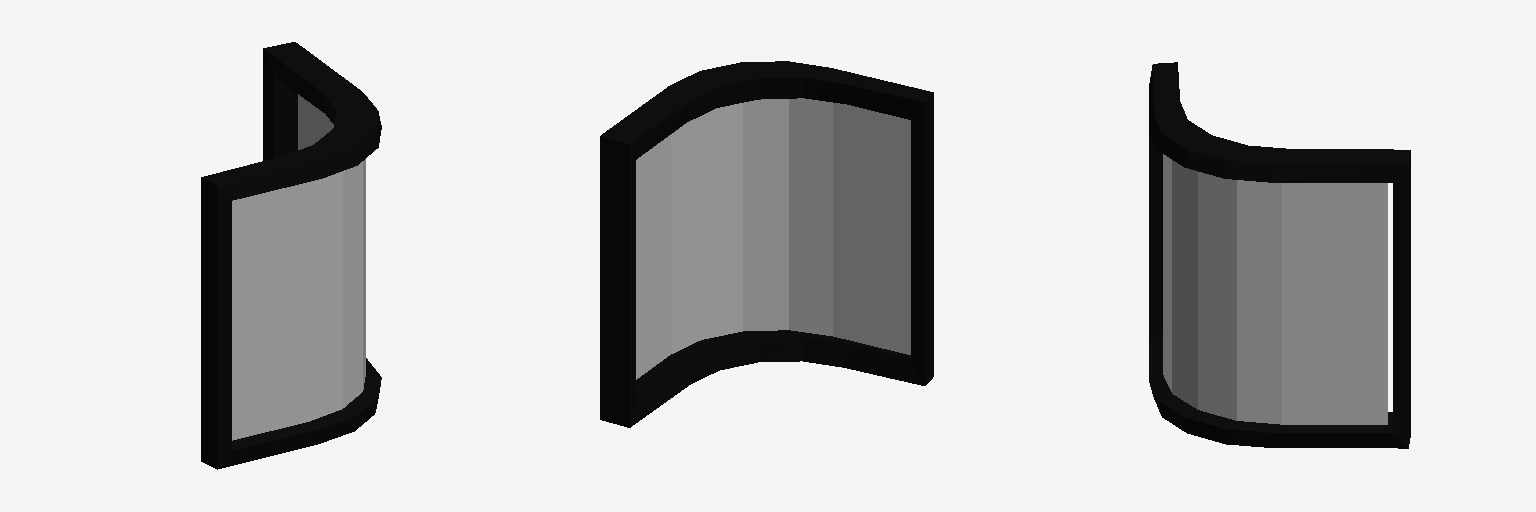
File: Sign_Corner_Small1.obj
The picture shows the model from 3 angles: view 1: azimuth 30°, elevation 25°; view 2: azimuth 150°, elevation 25°; view 3: azimuth 270°, elevation 25°; orthographic projection.
Parts seen in each view (by area): view 1: Sign_Corner_Small1_Plane.009; view 2: Sign_Corner_Small1_Plane.009; view 3: Sign_Corner_Small1_Plane.009.
Boxes of the visible parts, <box> form: Sign_Corner_Small1_Plane.009: <box>201,42,381,469</box>; Sign_Corner_Small1_Plane.009: <box>600,61,933,427</box>; Sign_Corner_Small1_Plane.009: <box>1149,62,1410,448</box>.
Bounding box in the file's own units: 0.5691 × 0.7269 × 0.6085.